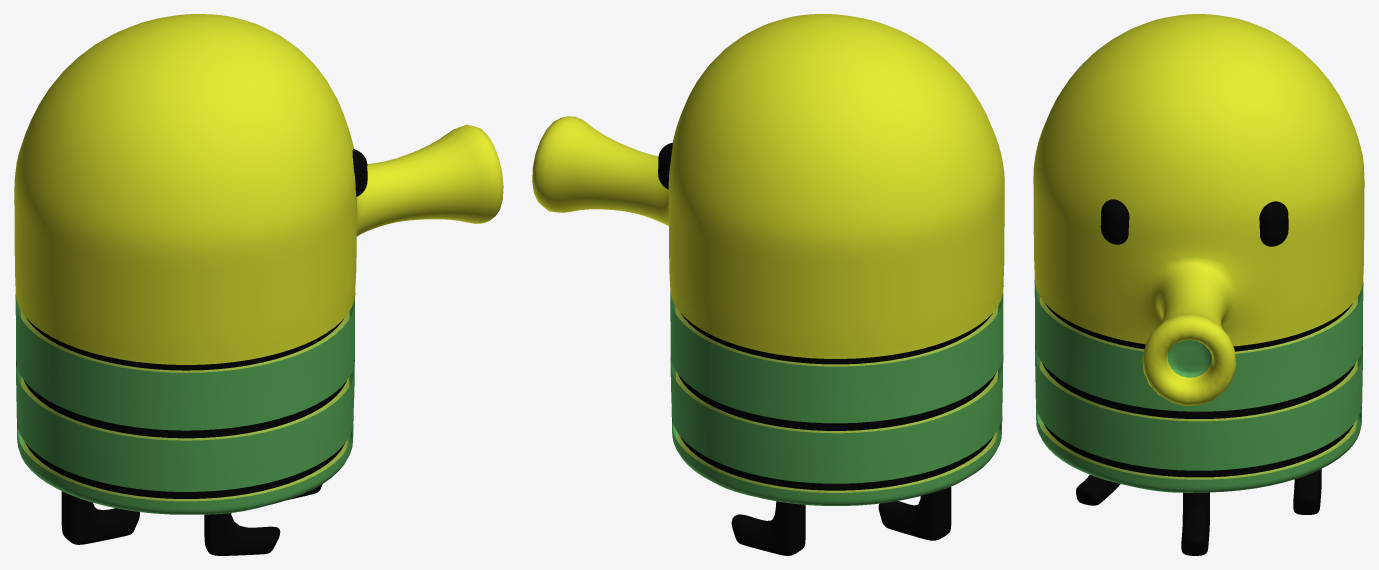
File: doodle_jump.glb
3 renders of one model, left to right at view 1: azimuth 30°, elevation 25°; view 2: azimuth 150°, elevation 25°; view 3: azimuth 270°, elevation 25°, orthographic. The views are drawn at different scales.
Parts seen in each view (by area): view 1: Sphere_0, Cube.001_3, Cube.002_4; view 2: Sphere_0, Cube.003_5, Cube.001_3; view 3: Sphere_0, Sphere.001_1, Cube_2, Cube.003_5, Cube.002_4.
Boxes of the visible parts, x1,y1,x2,y2 form: Sphere_0: [14, 14, 503, 514]; Cube.001_3: [61, 491, 139, 544]; Cube.002_4: [204, 513, 280, 555]; Sphere_0: [532, 14, 1004, 505]; Cube.003_5: [731, 501, 805, 555]; Cube.001_3: [878, 487, 951, 540]; Sphere_0: [1033, 14, 1364, 492]; Sphere.001_1: [1100, 199, 1288, 246]; Cube_2: [1181, 492, 1209, 555]; Cube.003_5: [1293, 469, 1321, 514]; Cube.002_4: [1076, 475, 1120, 505].
Bounding box in the file's own units: 2.9 × 3.06 × 1.95.
